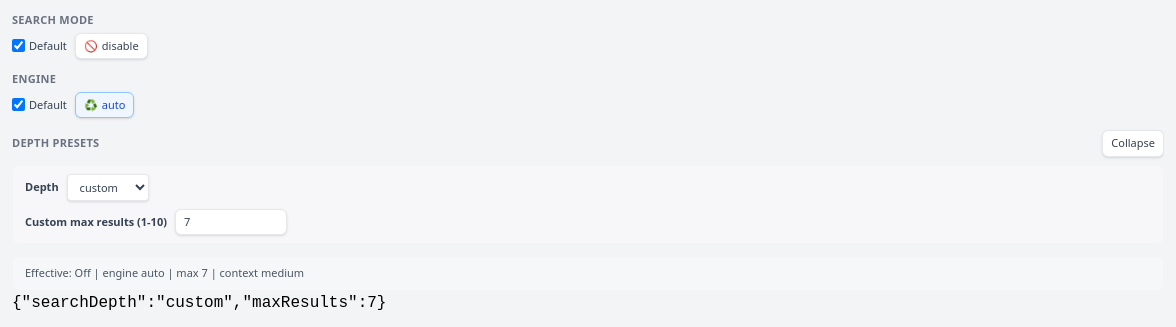
Test: WebSearchSettingsEditor › Depth deadlock is released by switching to low and then collapsing
This screenshot has width=1176, height=327.
Clear the field with test id "search-max-results-input" at (231, 222), box [175,208,287,235]
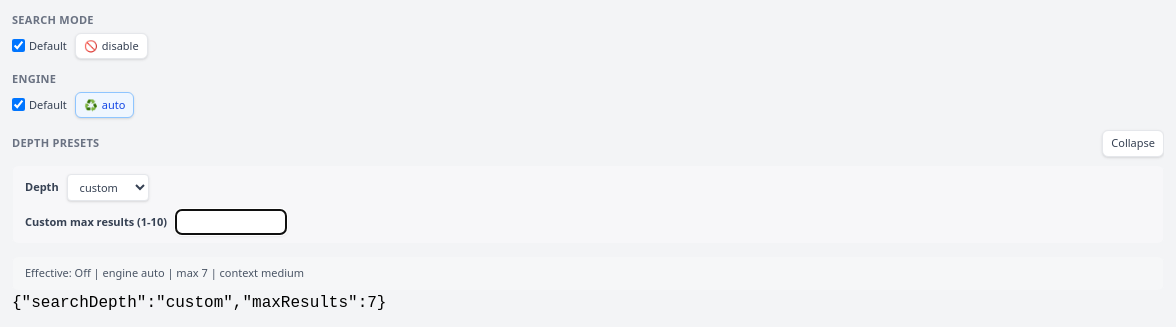
Select "low" in the dropdown with test id "search-depth-select" at (108, 187), box [67,174,149,200]
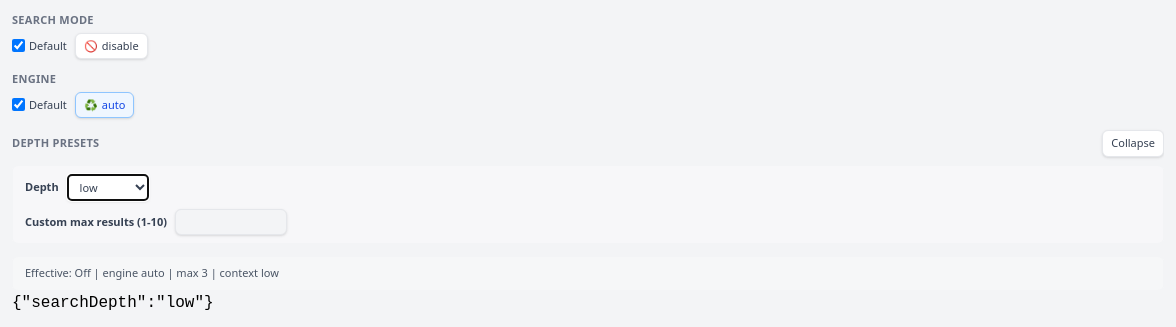
Click the button with test id "search-depth-panel-toggle" at (1133, 143), box [1102,130,1164,156]
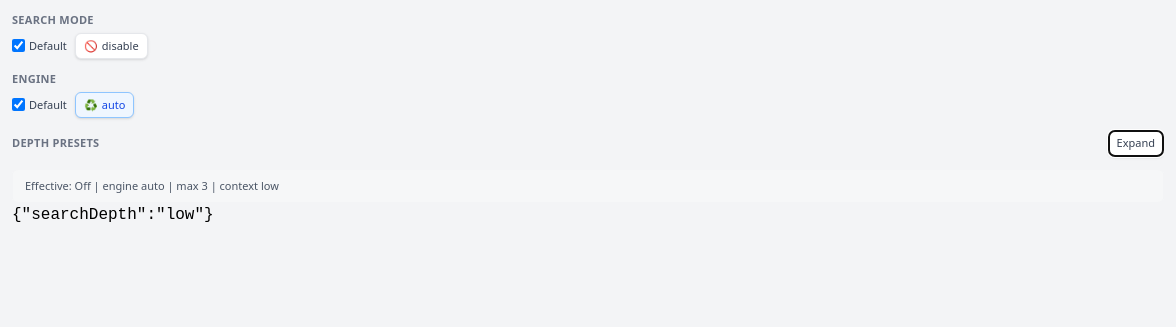
expect the button with test id "search-depth-panel-toggle" is collapsed: met, box [1108,130,1164,156]
